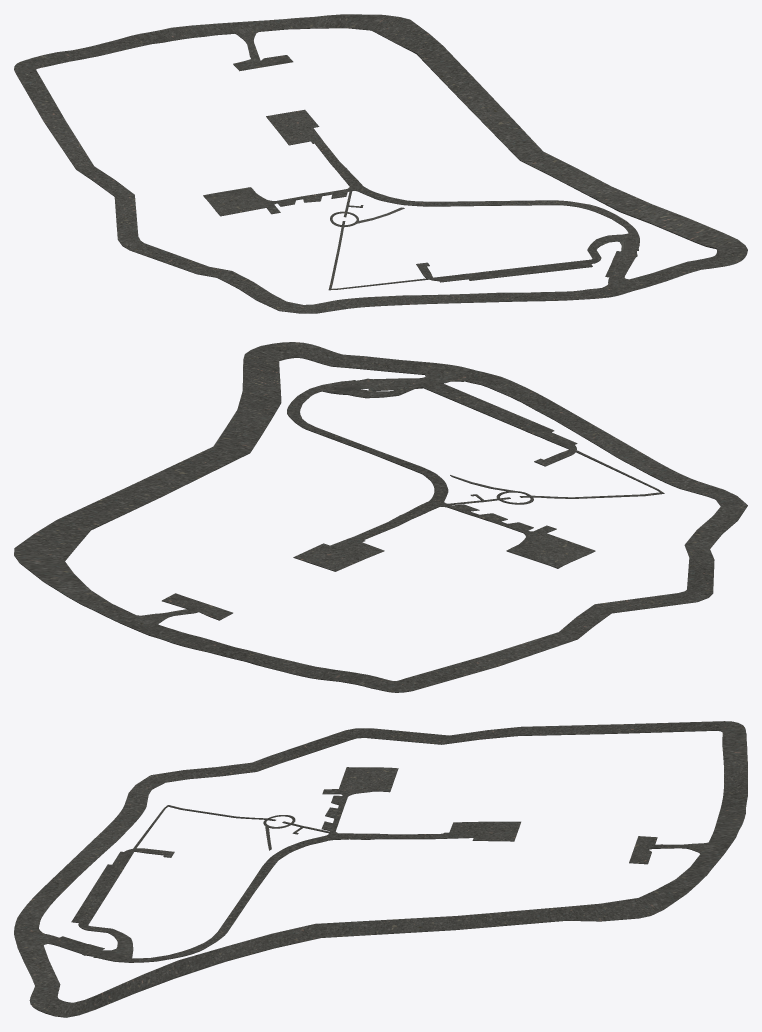
Rendered from PISTA.fbx.
The picture shows the model from 3 angles, top to bottom: view 1: azimuth 30°, elevation 25°; view 2: azimuth 150°, elevation 25°; view 3: azimuth 270°, elevation 25°; orthographic projection. The views are drawn at different scales.
Visible parts, largest first — view 1: PISTA; view 2: PISTA; view 3: PISTA.
Boxes of the visible parts, bbox=[...] form: PISTA: bbox=[14, 14, 747, 313]; PISTA: bbox=[14, 342, 747, 692]; PISTA: bbox=[14, 721, 747, 1017].
Bounding box in the file's own units: 38204 × 4498 × 44889.
